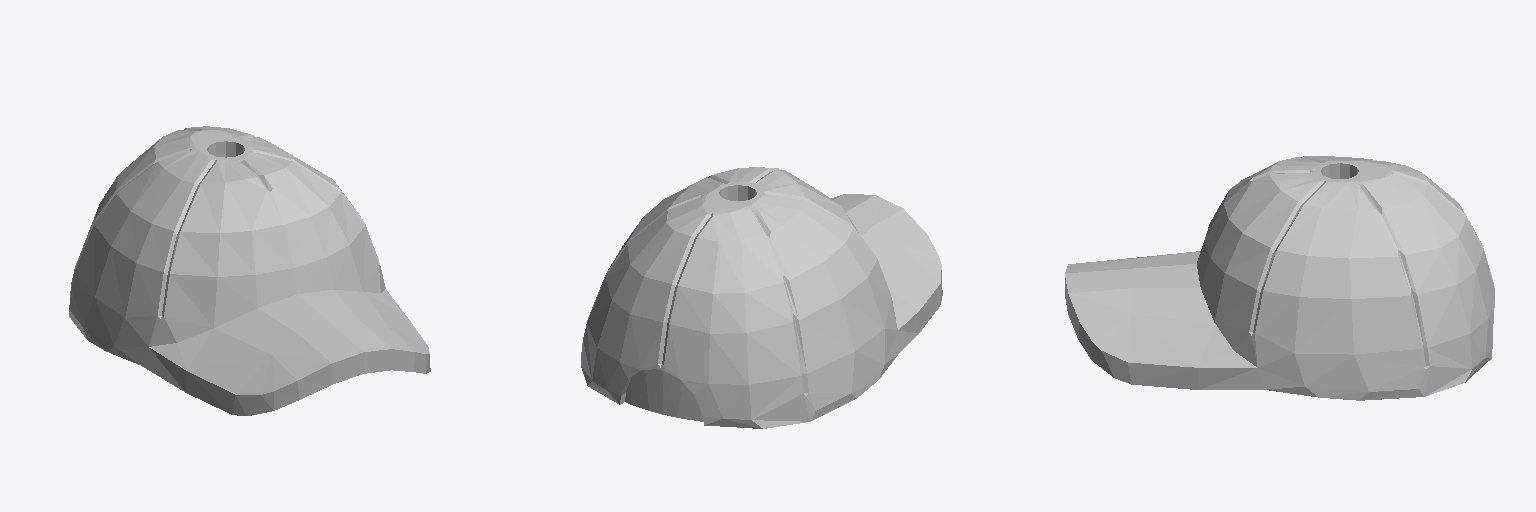
Rendered from cap.obj.
3 renders of one model, left to right at view 1: azimuth 30°, elevation 25°; view 2: azimuth 150°, elevation 25°; view 3: azimuth 270°, elevation 25°, orthographic.
Parts seen in each view (by area): view 1: Piece000; view 2: Piece000; view 3: Piece000.
Boxes of the visible parts, box(x1,y1,x2,y2) form: Piece000: box(69, 126, 430, 415); Piece000: box(581, 167, 942, 428); Piece000: box(1065, 156, 1494, 400).
Bounding box in the file's own units: 3.01 × 1.87 × 4.3.